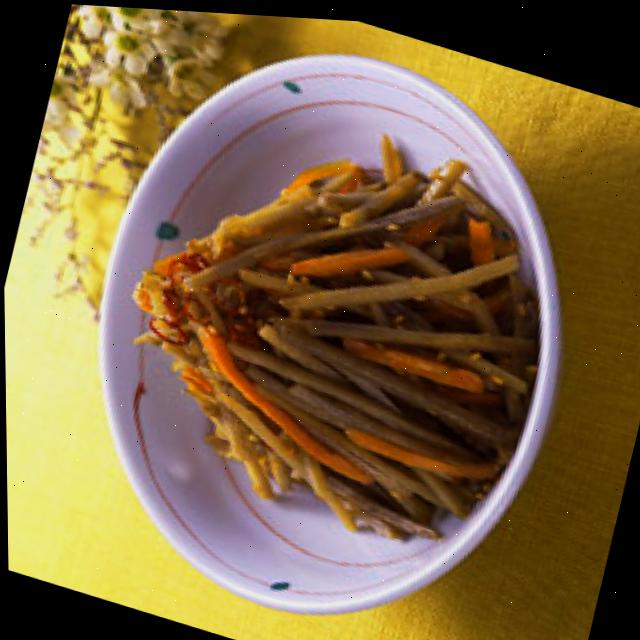蔬菜料理: (16, 1, 615, 640)
